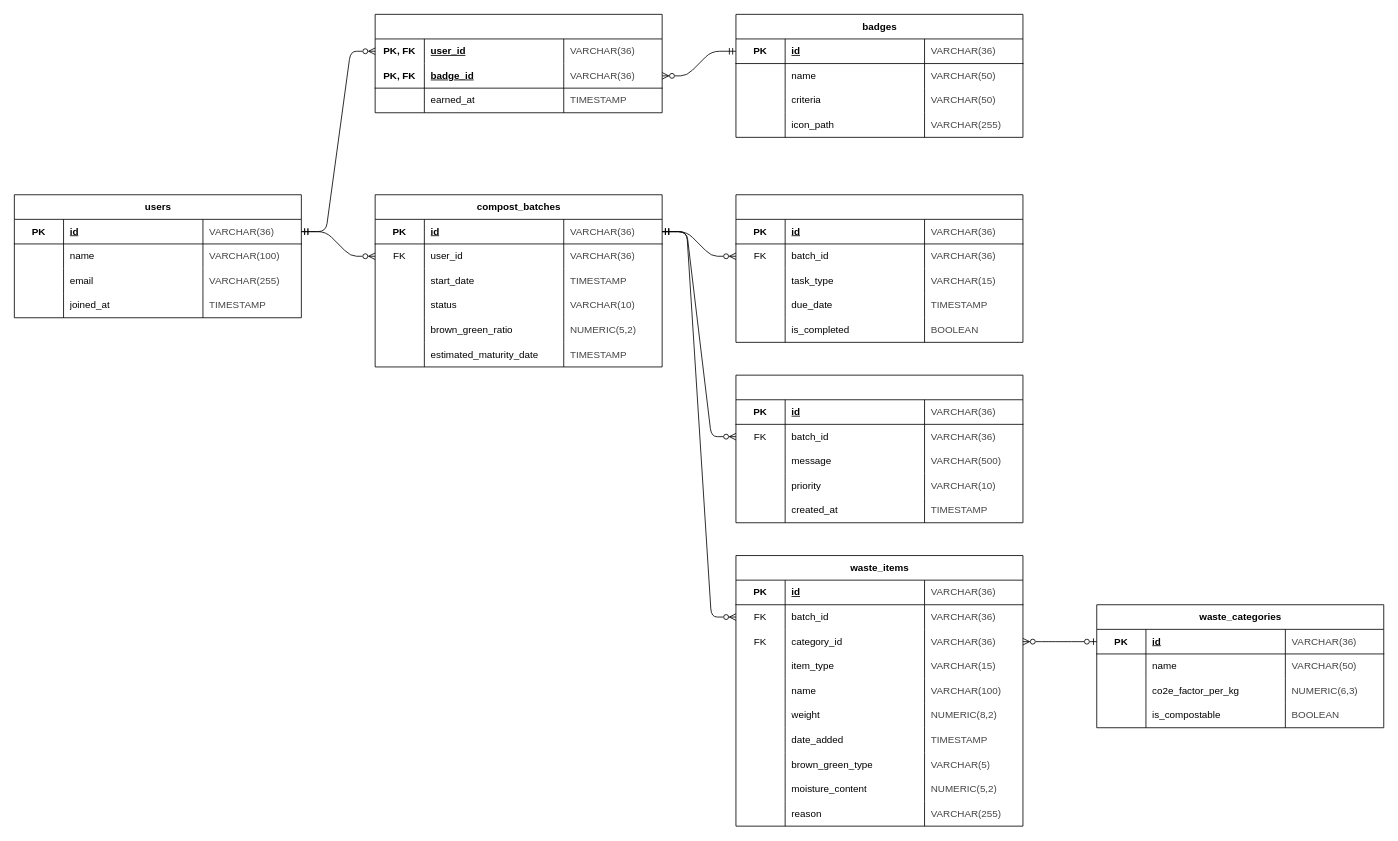
Some shapes in this 1398 by 841 pixel diagram are drawn without their labels. The box of each missing label's shape, as (x1, y1, x2, y2) in pixels:
compost_recommendations: (735, 374, 1023, 523)
maintenance_schedules: (735, 194, 1023, 342)
user_badges: (374, 14, 662, 113)
